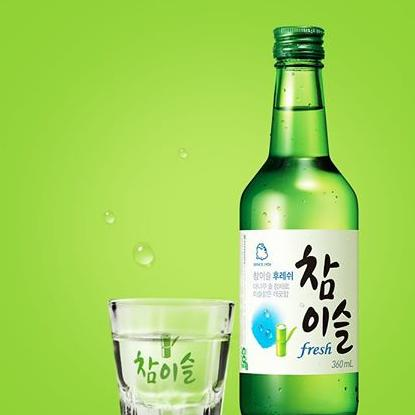soju: (236, 21, 363, 415)
